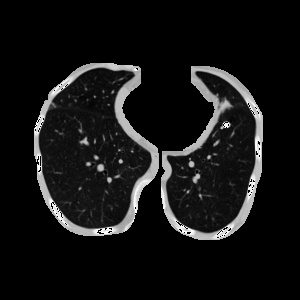PN: (222, 121, 230, 129)
